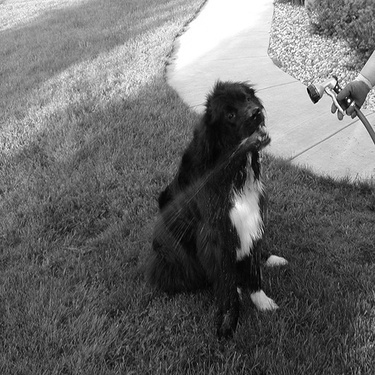dog: (133, 62, 296, 343)
